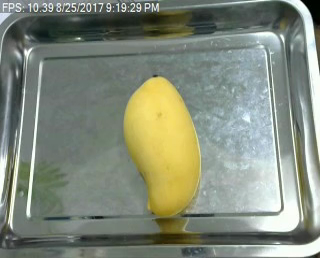Mango: (120, 72, 204, 218)
